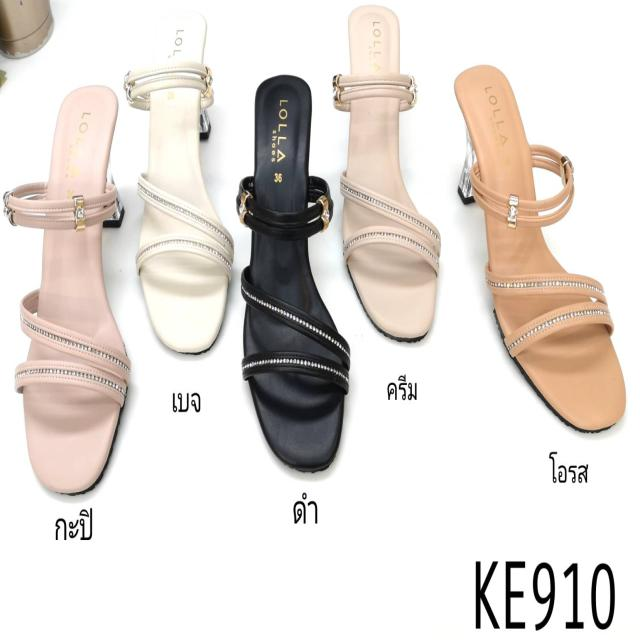bej: (137, 6, 230, 362)
black: (247, 72, 345, 473)
cream: (343, 12, 438, 337)
kapi: (22, 83, 127, 506)
orot: (451, 61, 625, 429)
